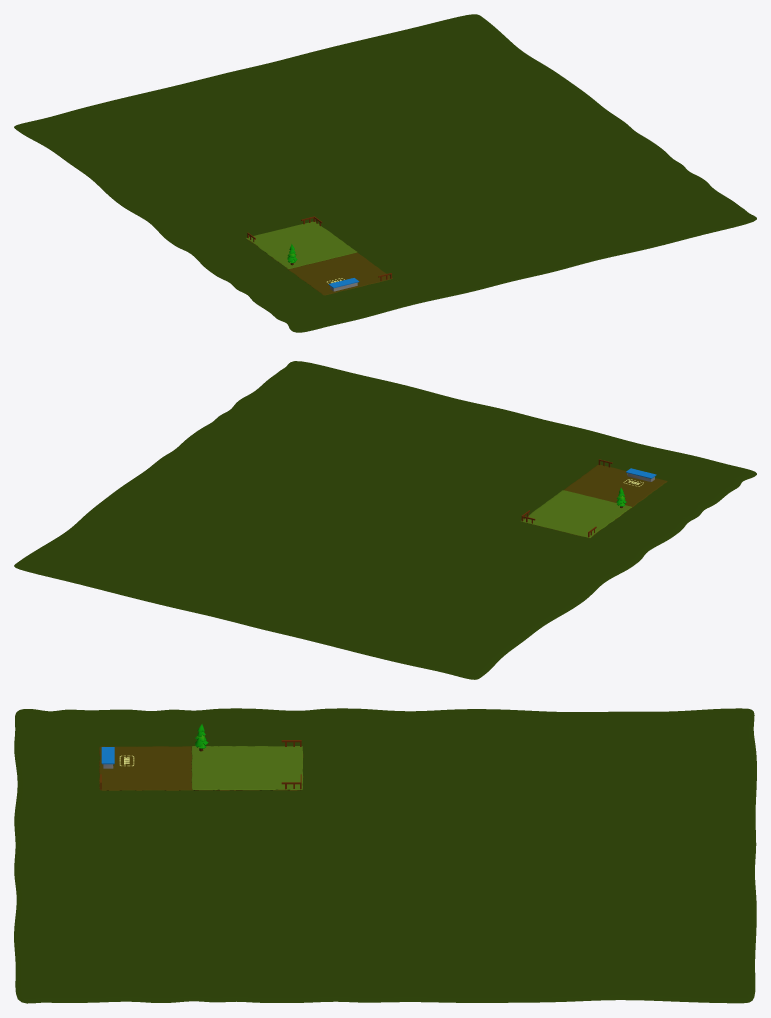
3 renders of one model, top to bottom at view 1: azimuth 30°, elevation 25°; view 2: azimuth 150°, elevation 25°; view 3: azimuth 270°, elevation 25°, orthographic. The views are drawn at different scales.
Visible parts, largest first — view 1: ground-0, ground-2, ground-1; view 2: ground-0, ground-2, ground-1; view 3: ground-0, ground-2, ground-1.
Boxes of the visible parts, x1=… form: ground-0: x1=14, y1=14, x2=756, y2=332; ground-2: x1=246, y1=221, x2=356, y2=269; ground-1: x1=246, y1=239, x2=392, y2=295; ground-0: x1=14, y1=361, x2=756, y2=679; ground-2: x1=521, y1=490, x2=631, y2=538; ground-1: x1=521, y1=464, x2=667, y2=538; ground-0: x1=14, y1=708, x2=756, y2=1003; ground-2: x1=191, y1=746, x2=302, y2=790; ground-1: x1=99, y1=746, x2=303, y2=790.
Bounding box in the file's own units: 164 × 7.39 × 175.
